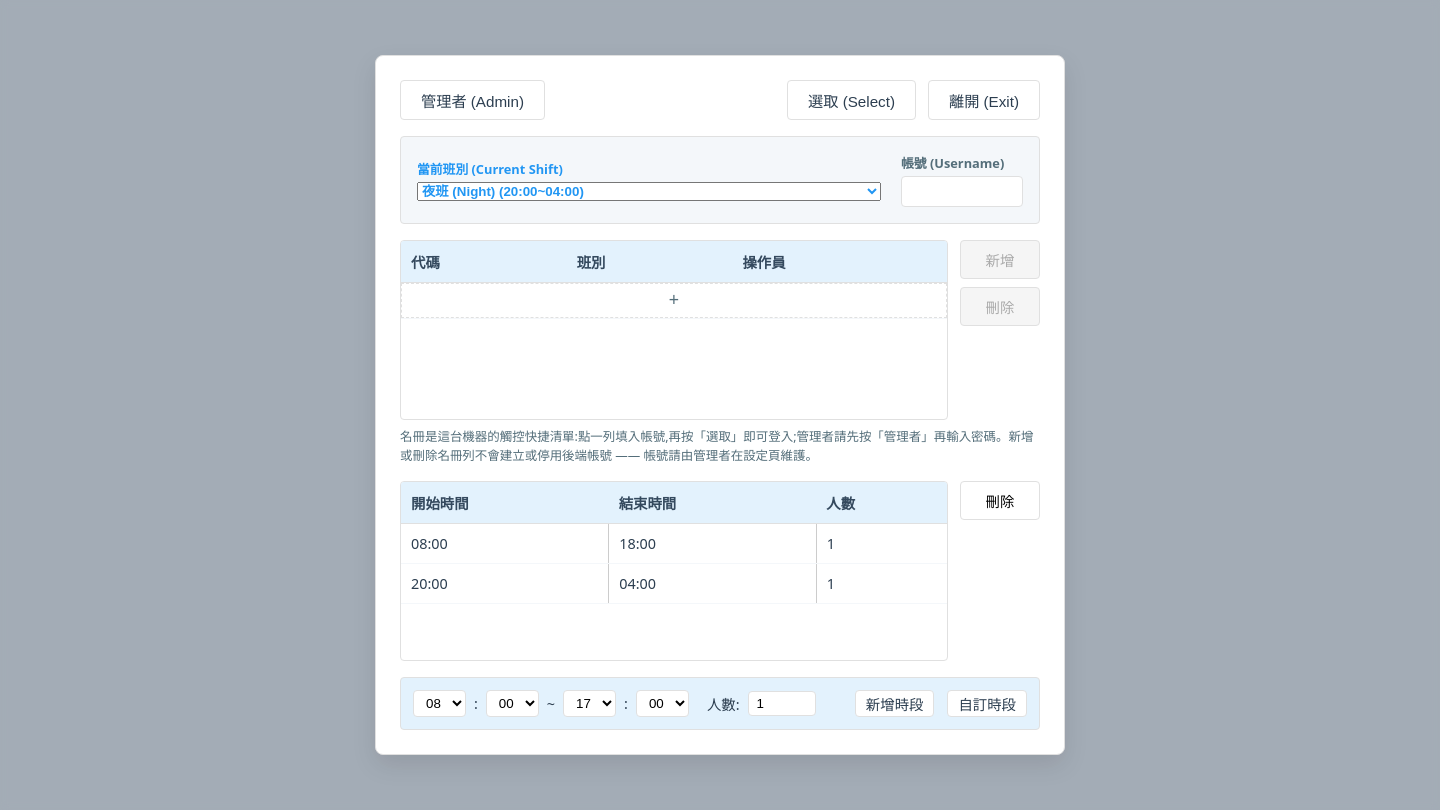
Test case: S17 密碼欄只在管理者模式出現 › 管理者模式密碼空白時不打後端,畫面直接說明
Click the button "管理者 (Admin)" at [472, 100], box [400,80,545,120]
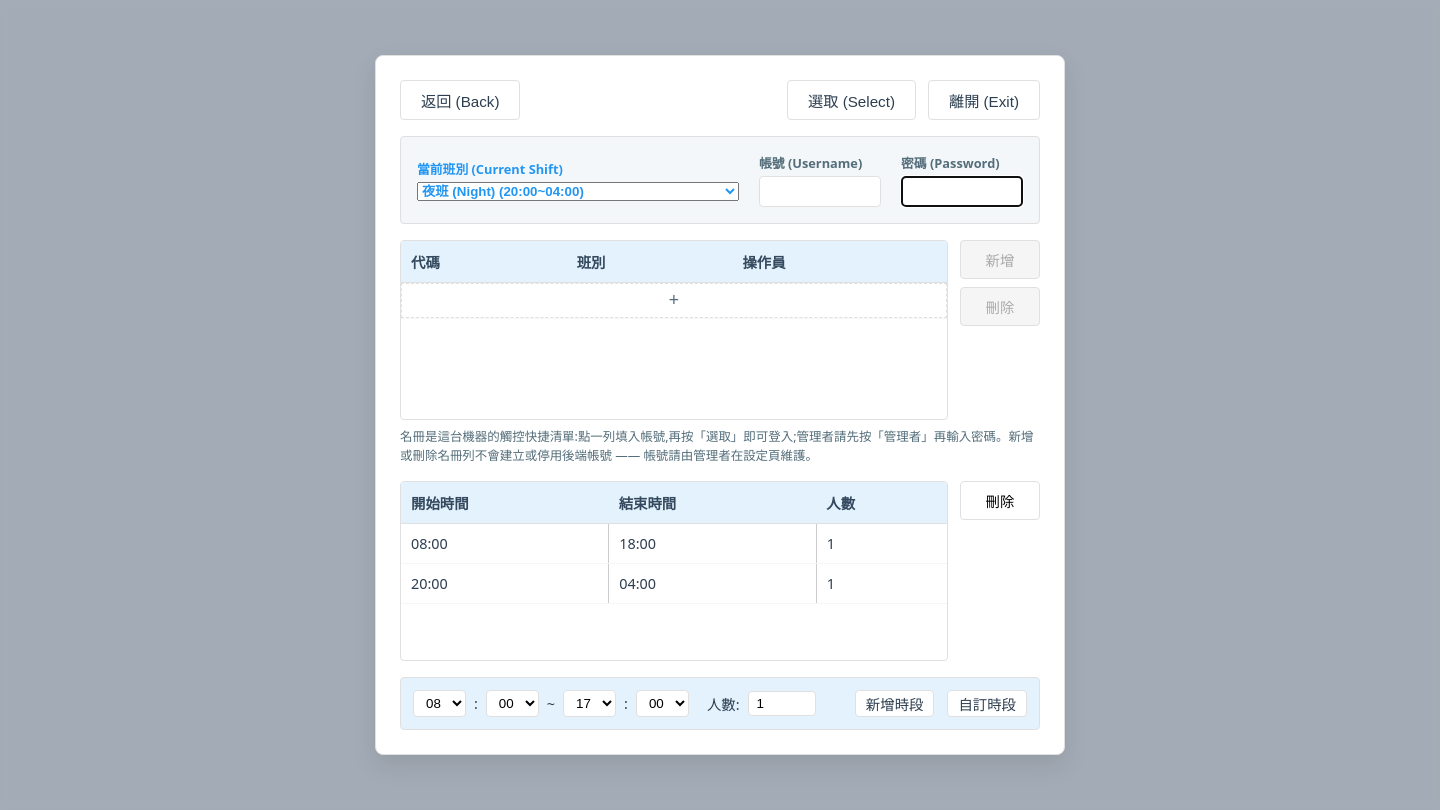
Type "admin" into the field named "帳號 (Username)" at [820, 191], box [759,176,881,207]
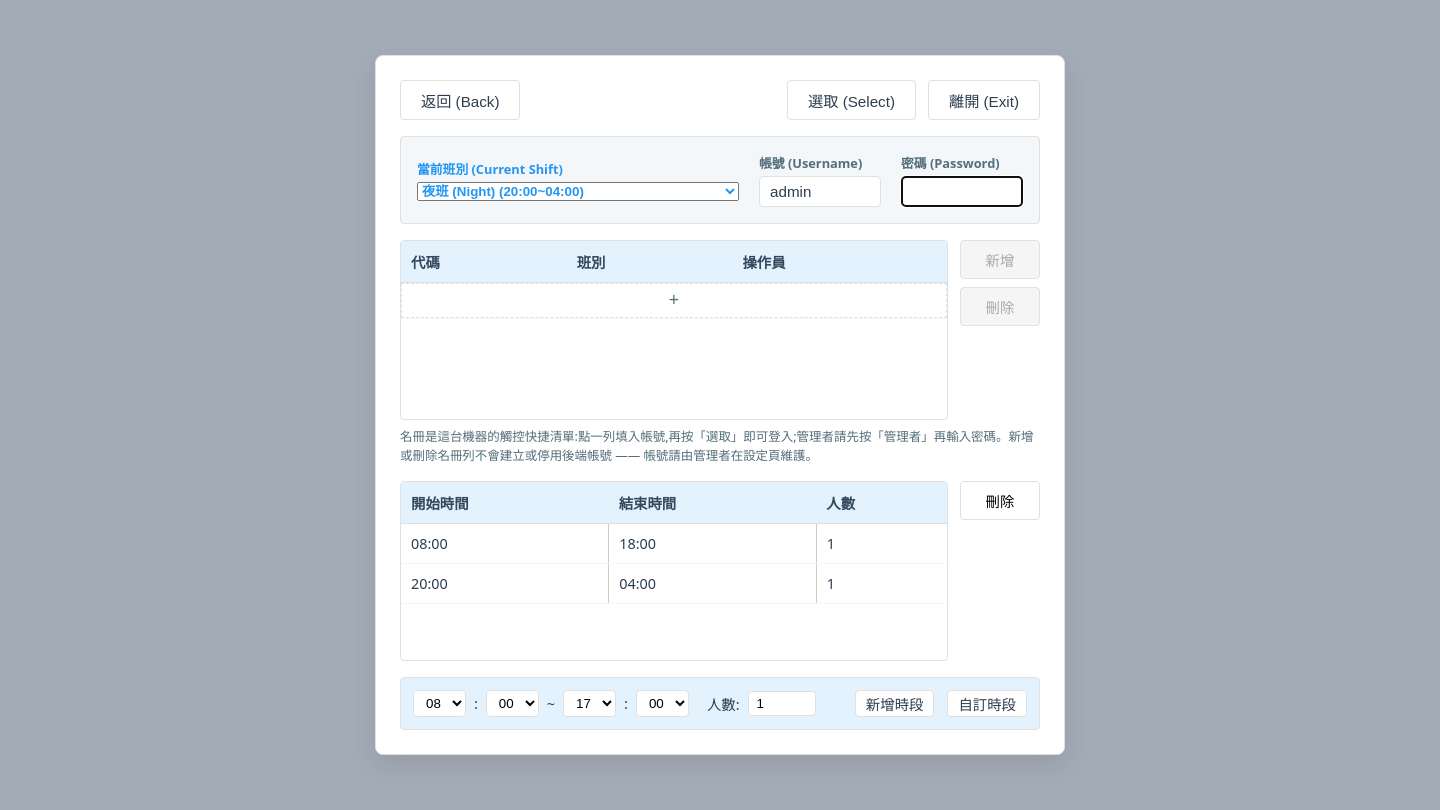
Click the button "選取 (Select)" at [851, 100], box [787,80,916,120]
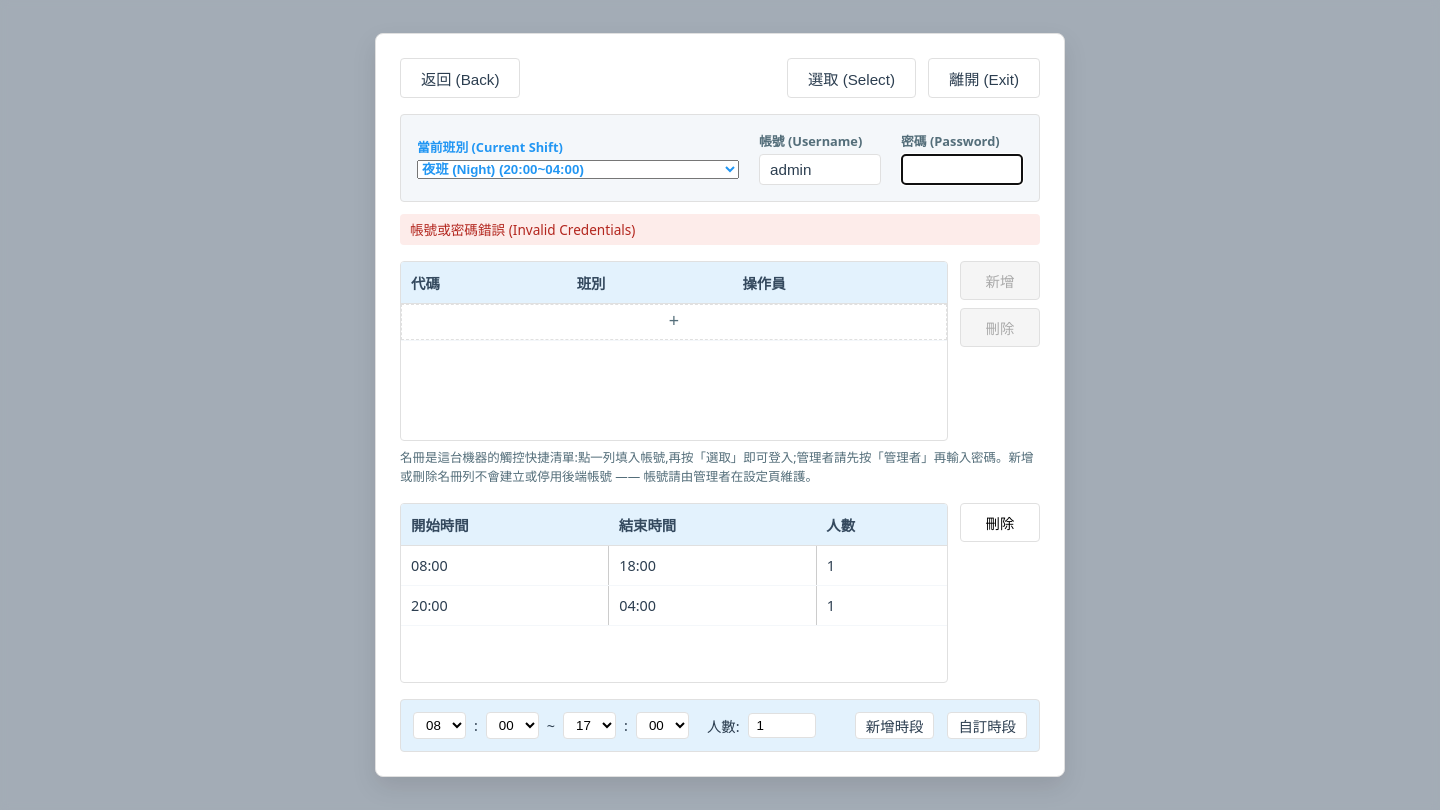
Now the message shows "帳號或密碼錯誤", box [410,220,635,239]
